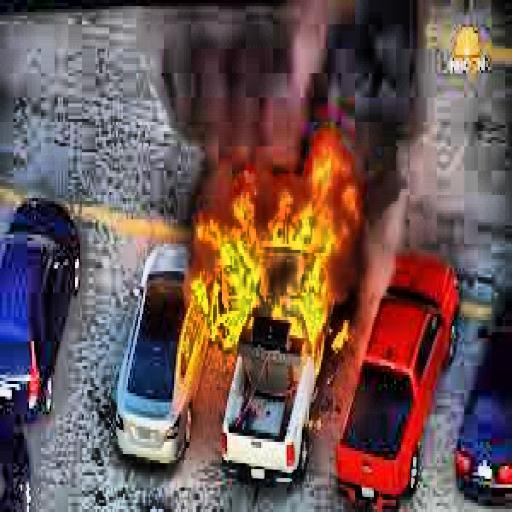fire: (196, 137, 364, 357)
